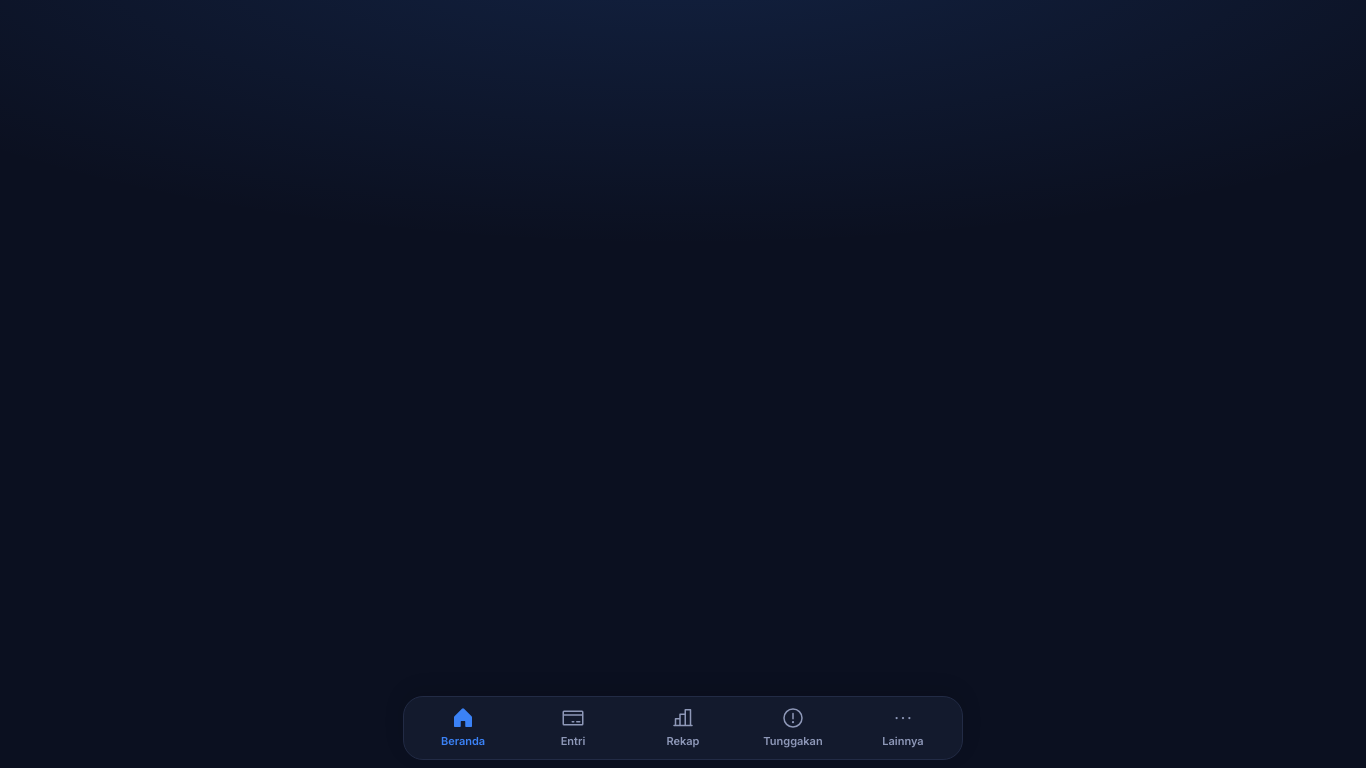
Test: BottomNav (A1) › Lainnya membuka sheet berisi 5 menu; memilih menu menutup sheet dan navigasi
Click the button "Lainnya".
click(903, 728)  # box top-left (848, 697), bottom-right (958, 759)
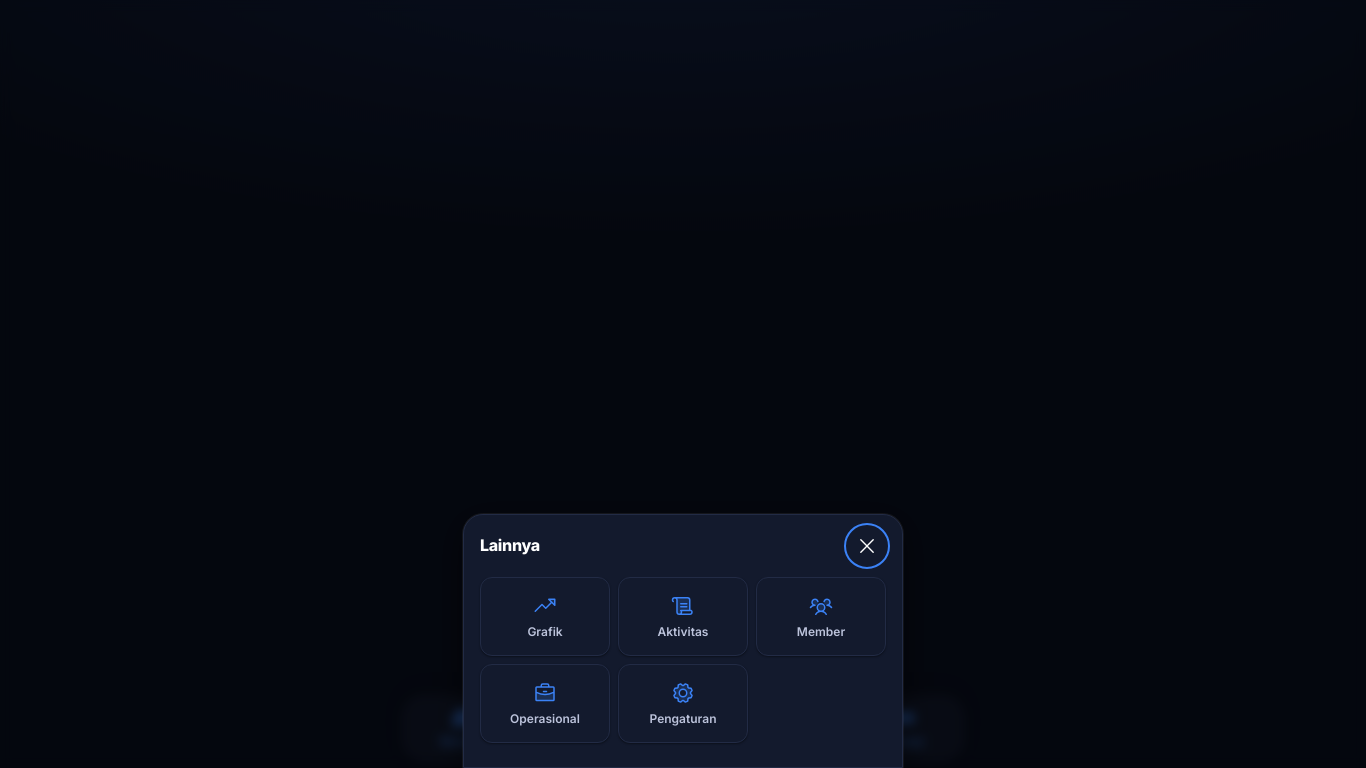
Click the button "Member".
click(821, 616)  # box top-left (756, 577), bottom-right (886, 656)
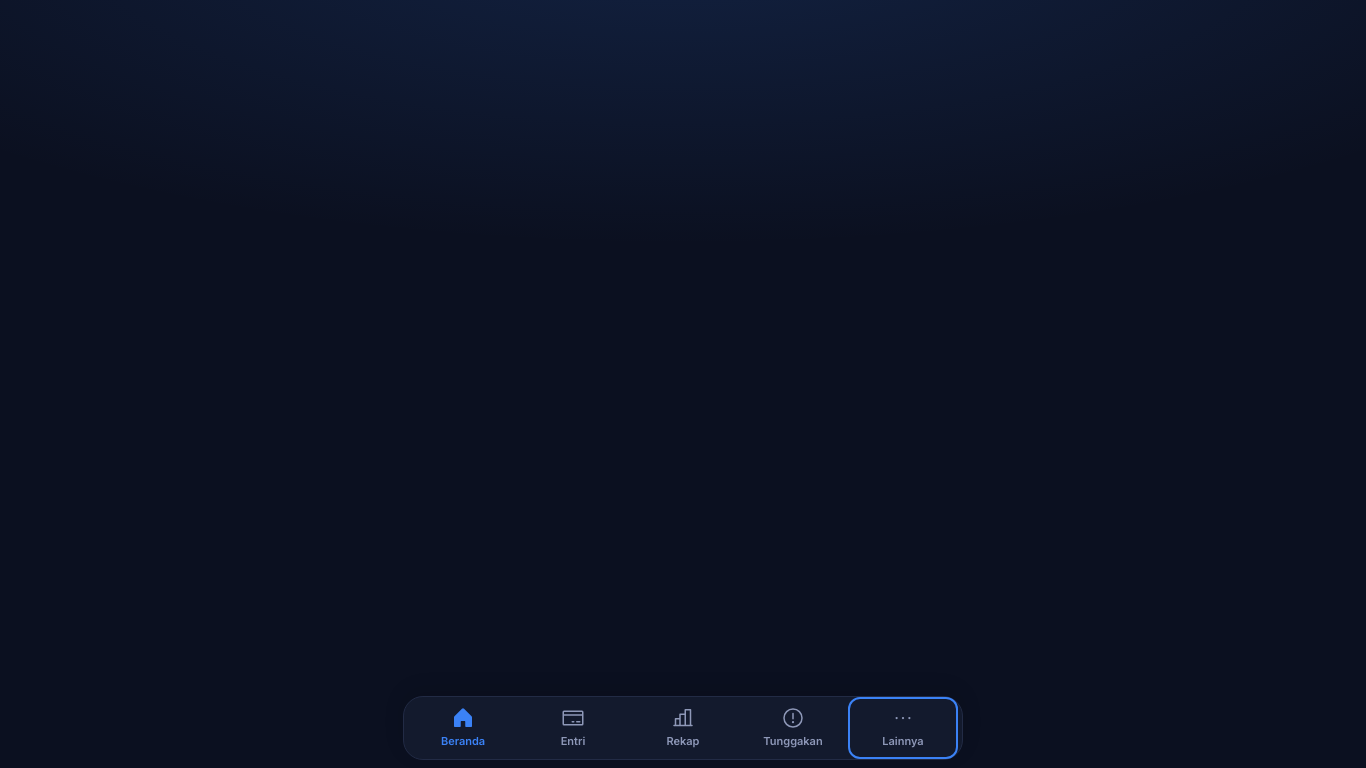
Result: the dialog is gone
